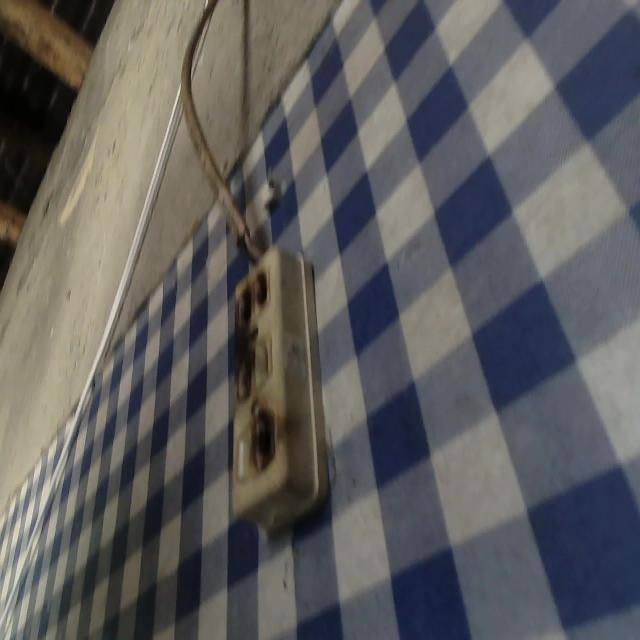-: (231, 267, 270, 329), (252, 411, 276, 472), (233, 344, 256, 400)
